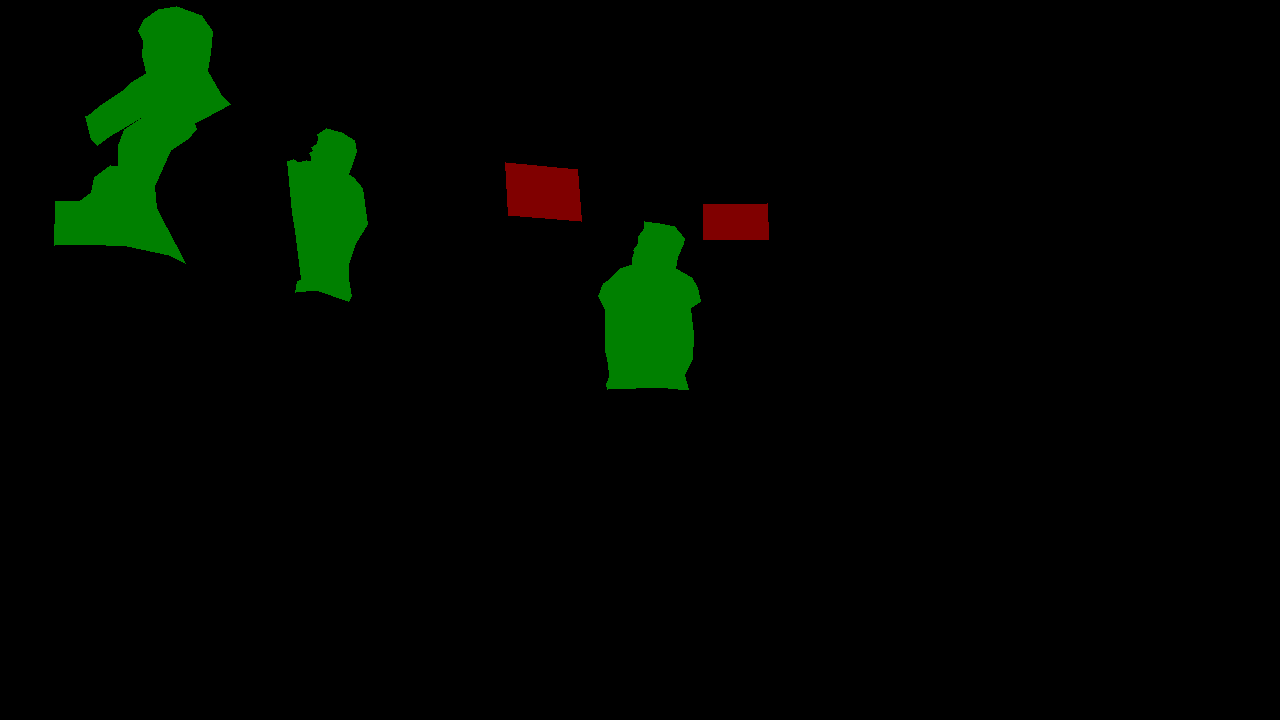person: (54, 6, 230, 263), (598, 221, 700, 389), (287, 128, 367, 301)
tvmonitor: (505, 162, 581, 221), (703, 203, 768, 239)
